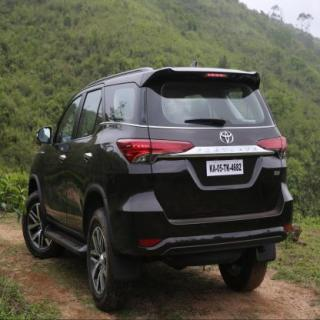Normal_vehicle: (22, 66, 292, 310)
